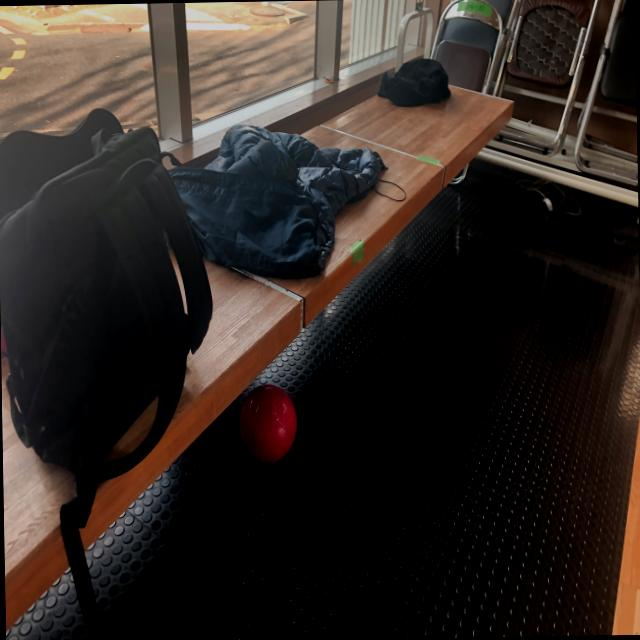red_ball: (239, 384, 296, 463)
